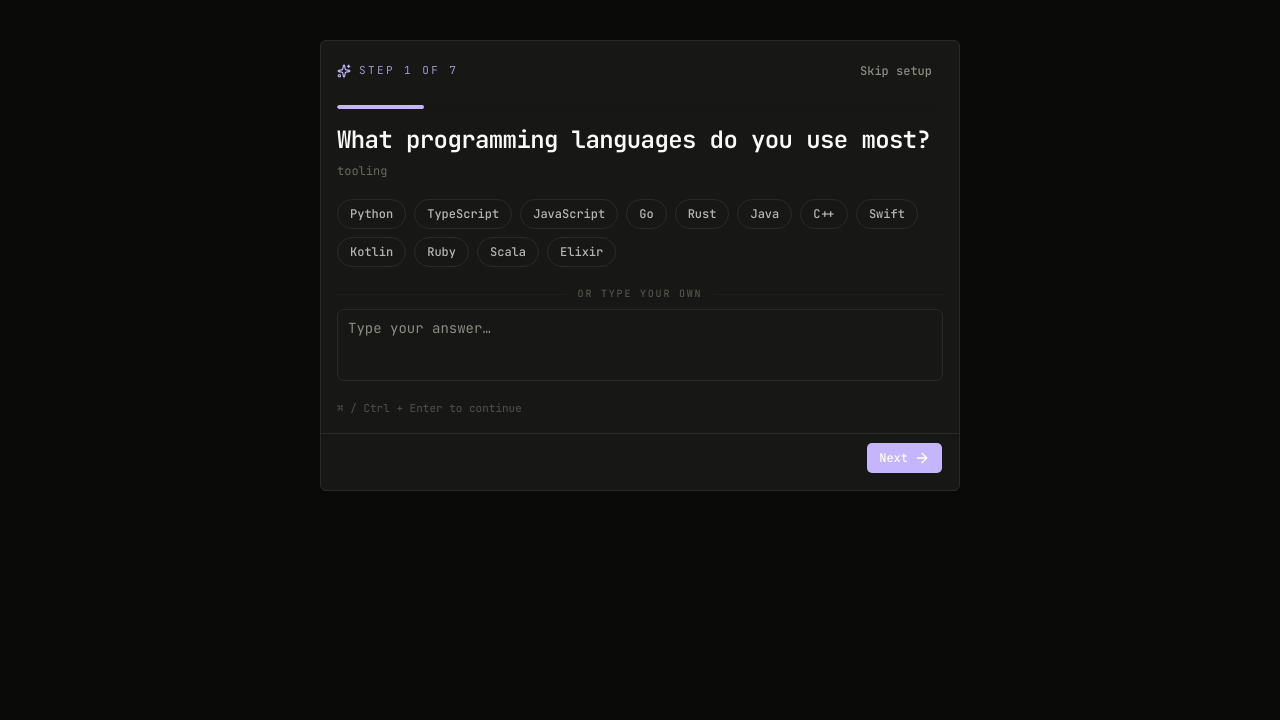
Test: OnboardingQuestionnaire › shows skip button for optional questions
This screenshot has width=1280, height=720.
Type "Python" into the text box.
click(640, 345); type("Python")  # box x1=337 y1=309 x2=943 y2=381
Click the button "Next".
click(905, 458)  # box x1=866 y1=442 x2=943 y2=474
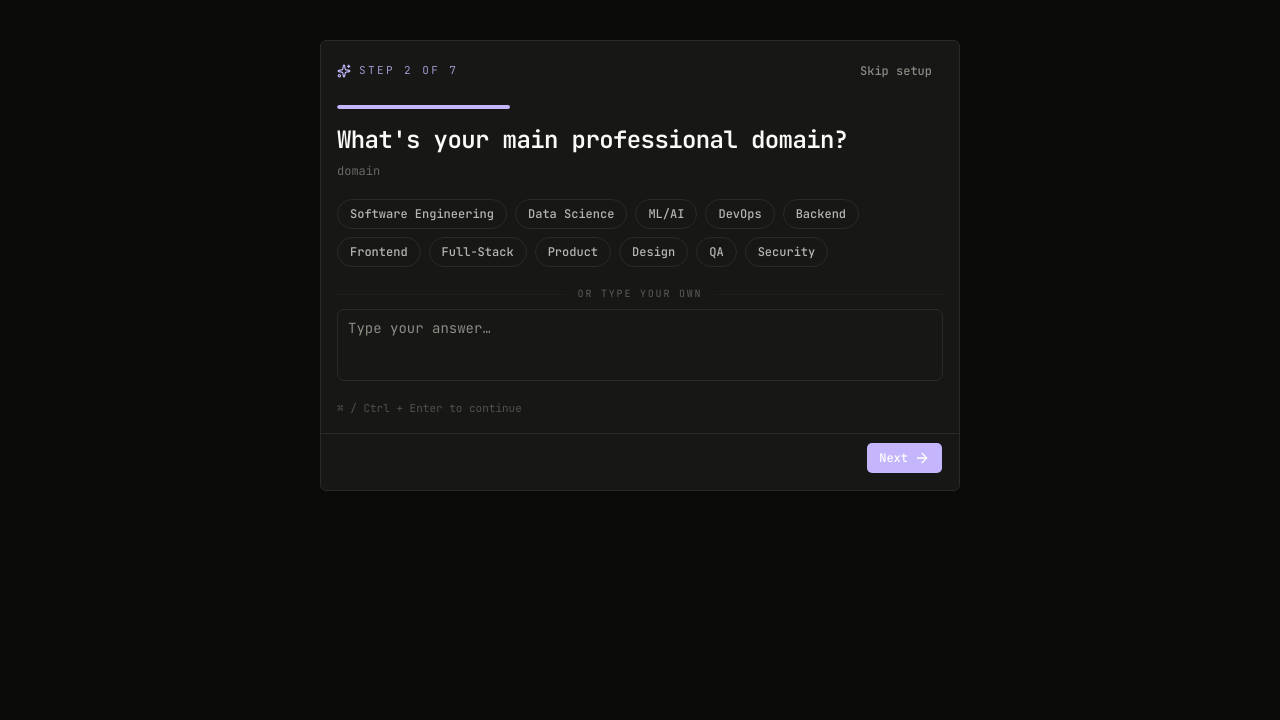
Type "Software Engineering" into the text box.
click(640, 345); type("Software Engineering")  # box x1=337 y1=309 x2=943 y2=381
Click the button "Next".
click(905, 458)  # box x1=866 y1=442 x2=943 y2=474
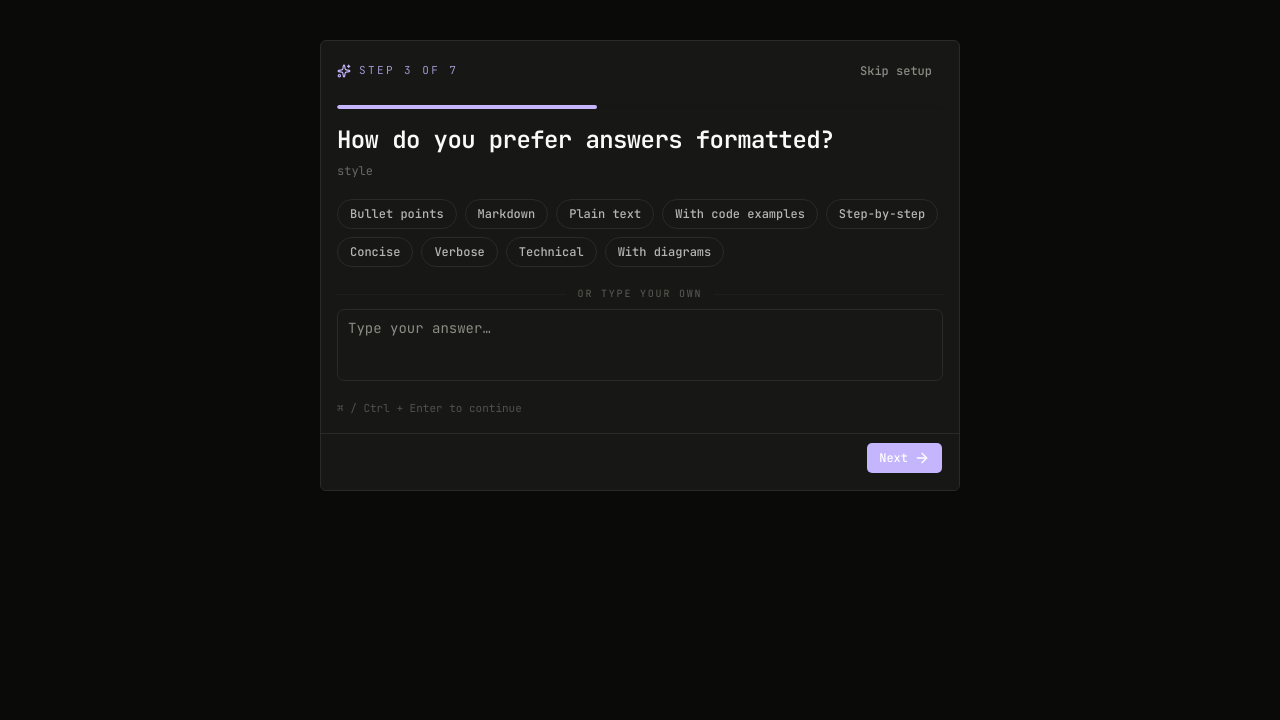
Type "Bullet points" into the text box.
click(640, 345); type("Bullet points")  # box x1=337 y1=309 x2=943 y2=381
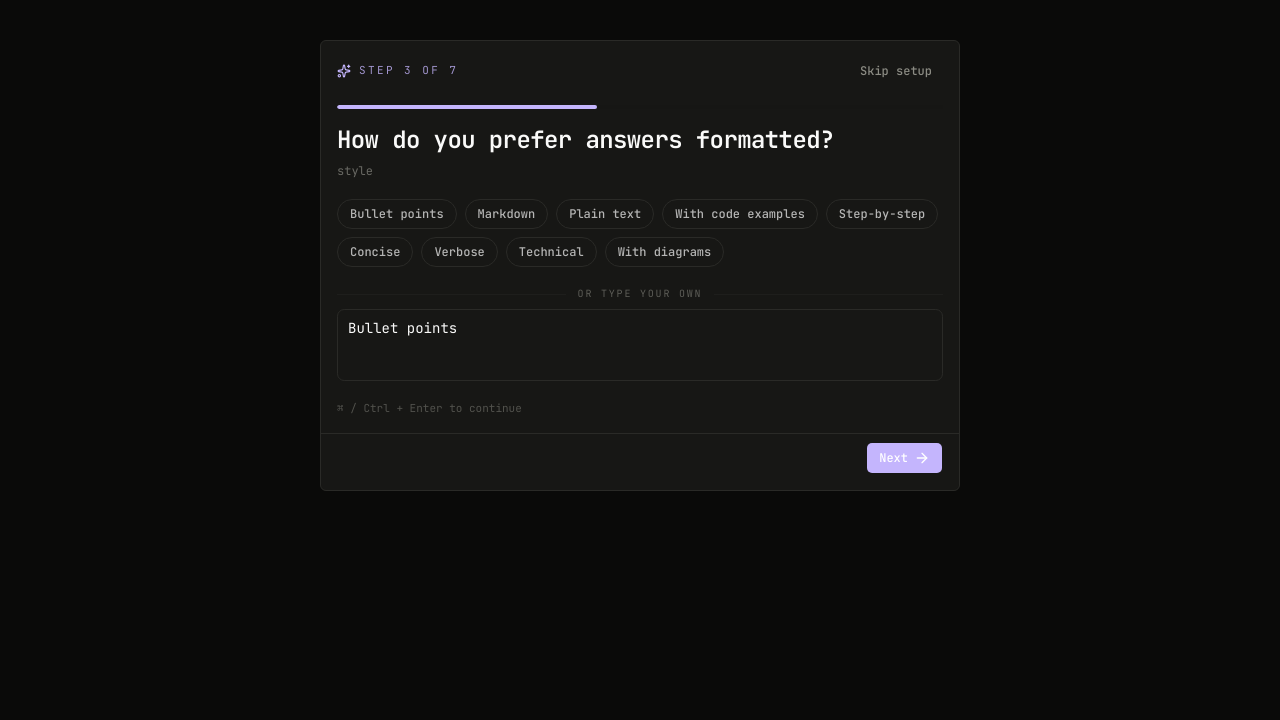
Click the button "Next".
click(905, 458)  # box x1=866 y1=442 x2=943 y2=474
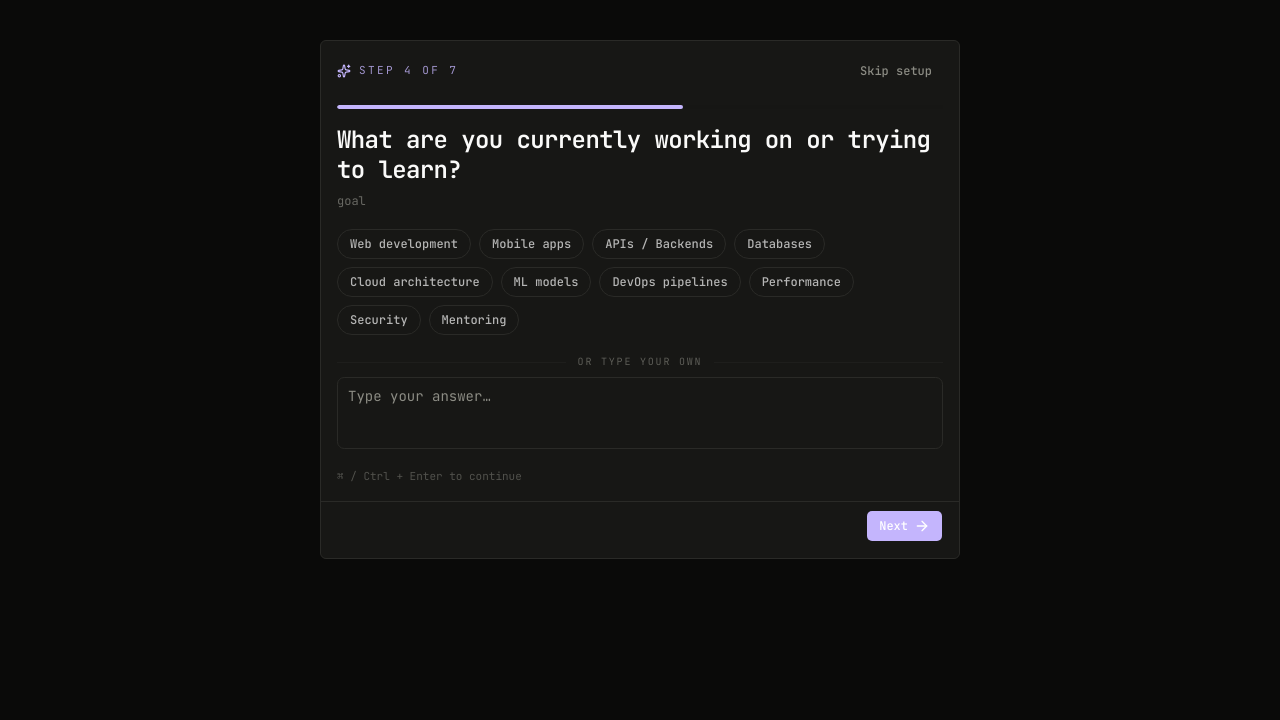
Type "Learning Rust" into the text box.
click(640, 413); type("Learning Rust")  # box x1=337 y1=377 x2=943 y2=449
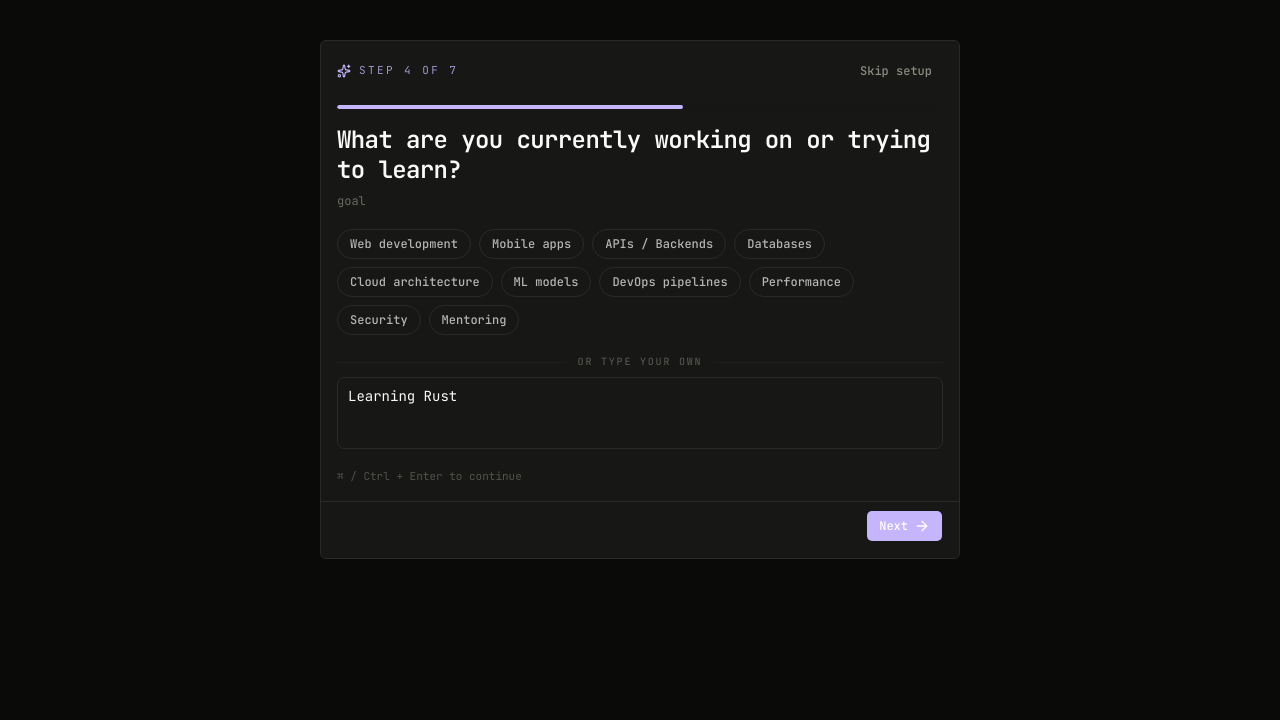
Click the button "Next".
click(905, 526)  # box x1=866 y1=510 x2=943 y2=542
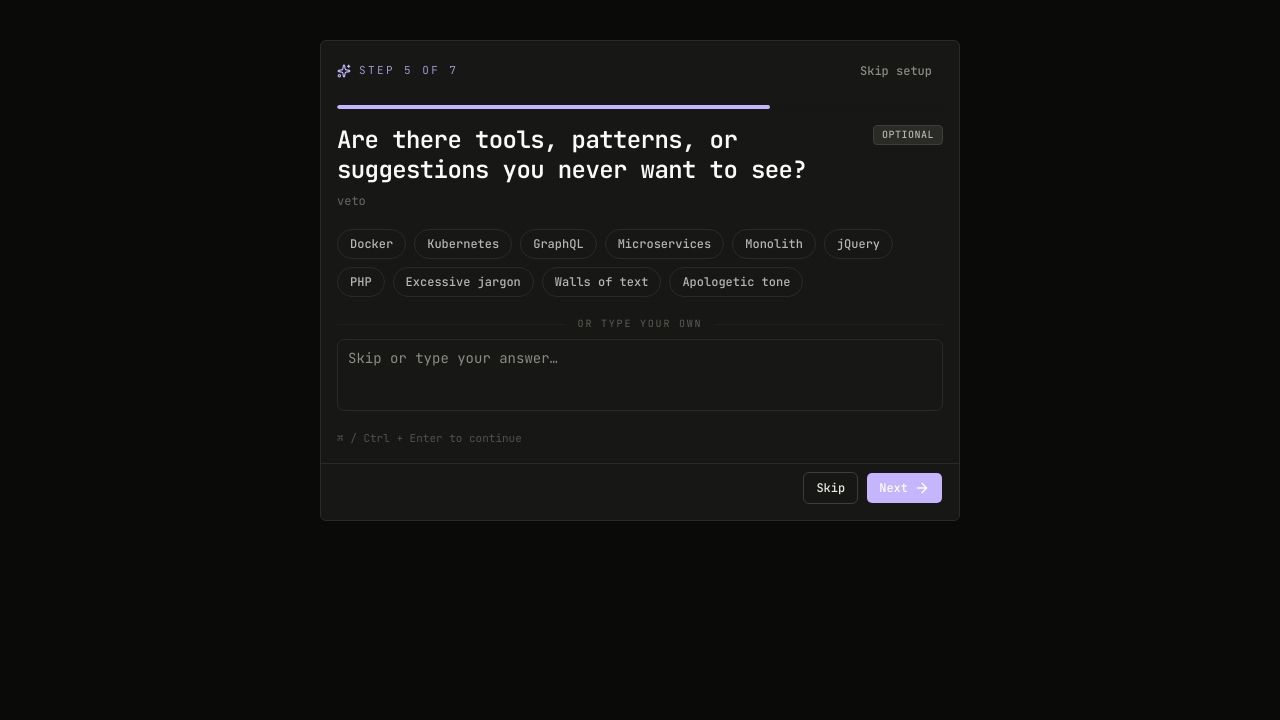
expect the heading "Are there tools, patterns, or suggestions you never want to see?" is shown: met, box x1=337 y1=125 x2=861 y2=185
expect the button "Skip" is shown: met, box x1=803 y1=472 x2=858 y2=504
